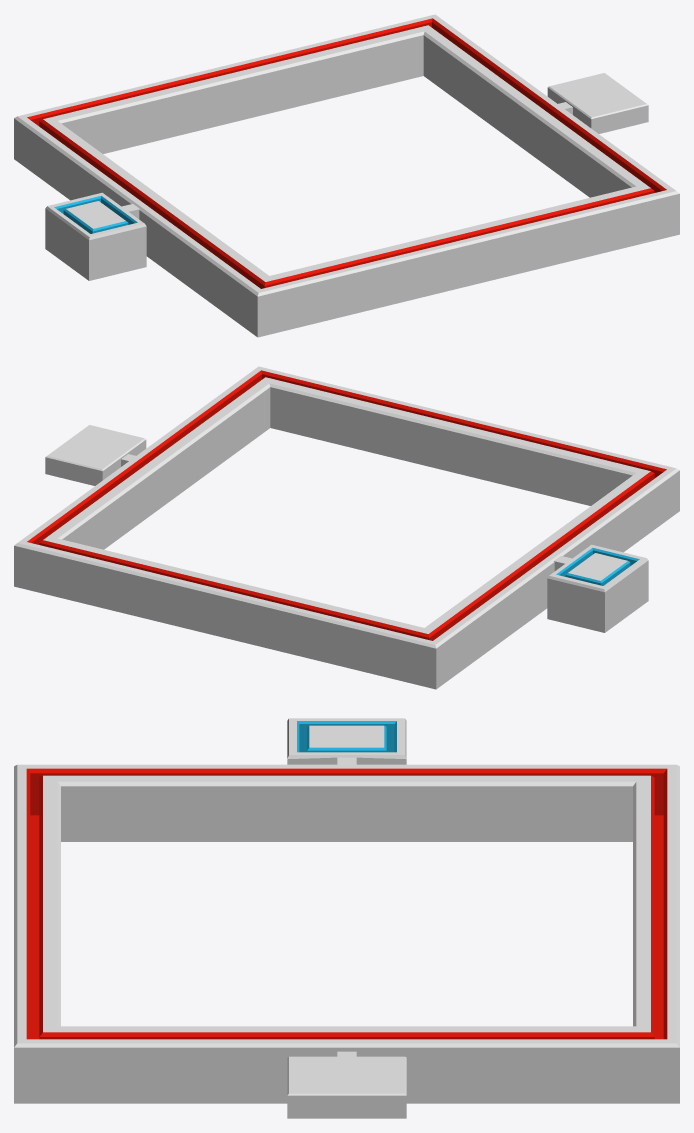
The model's file is frame.fbx.
3 renders of one model, top to bottom at view 1: azimuth 30°, elevation 25°; view 2: azimuth 150°, elevation 25°; view 3: azimuth 270°, elevation 25°, orthographic. The views are drawn at different scales.
Parts seen in each view (by area): view 1: Frame; view 2: Frame; view 3: Frame.
Part boxes in pixels (x1=…): Frame: x1=14, y1=14, x2=679, y2=337; Frame: x1=14, y1=366, x2=679, y2=689; Frame: x1=14, y1=718, x2=679, y2=1118.
Size of the model in its own units: 1529 by 113 by 1154.
